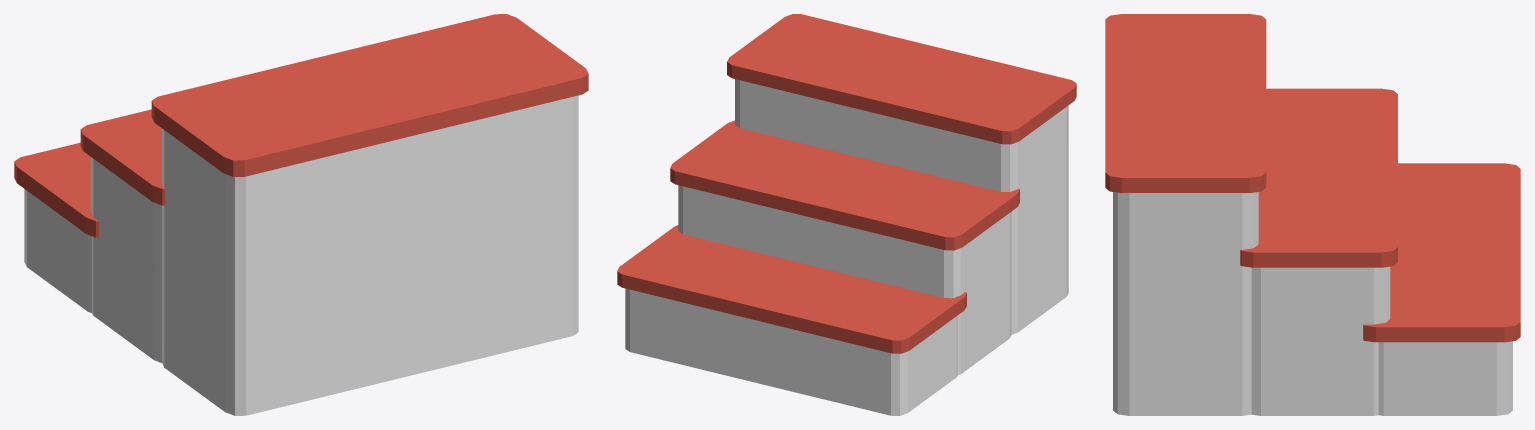
Rendered from Display.fbx.
3 renders of one model, left to right at view 1: azimuth 30°, elevation 25°; view 2: azimuth 150°, elevation 25°; view 3: azimuth 270°, elevation 25°, orthographic. The views are drawn at different scales.
Visible parts, largest first — view 1: Display; view 2: Display; view 3: Display.
Boxes of the visible parts, <box> form: Display: <box>14,14,588,415</box>; Display: <box>617,14,1076,415</box>; Display: <box>1105,14,1520,415</box>.
Bounding box in the file's own units: 9.15 × 6.27 × 9.81.
